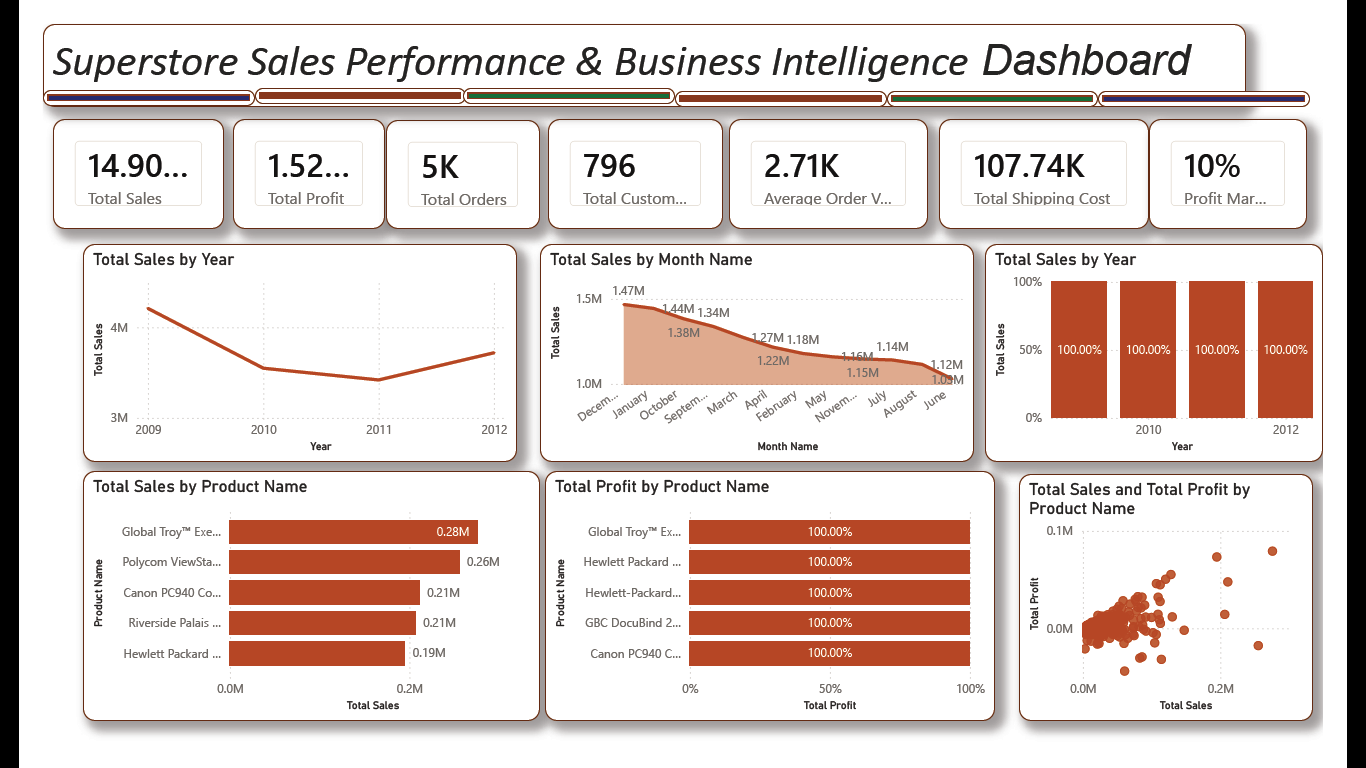

What the dashboard file says about the page in this screenshot:
{"tool":"powerbi","page":{"name":"Page 1","canvas":[1280,720],"ordinal":0},"visuals":[{"type":"cardVisual","fields":{"Data":["Orders.Total Sales"]},"box":[10.1,95.7,166.3,109.2],"z":0},{"type":"cardVisual","fields":{"Data":["Orders.Total Profit"]},"box":[176.4,95.7,152.9,109.2],"z":1000},{"type":"cardVisual","fields":{"Data":["Orders.Total Orders"]},"box":[342.7,95.7,154.5,109.2],"z":2000},{"type":"cardVisual","fields":{"Data":["Orders.Total Customers"]},"box":[497.2,95.7,176.4,109.2],"z":3000},{"type":"cardVisual","fields":{"Data":["Orders.Average Order Value"]},"box":[674.6,95.1,199,109.8],"z":4000},{"type":"cardVisual","fields":{"Data":["Orders.Total Shipping Cost"]},"box":[873.5,95.7,204.9,109.2],"z":5000},{"type":"cardVisual","fields":{"Data":["Orders.Profit Margin"]},"box":[1078.4,95.7,157.9,109.2],"z":6000},{"type":"lineChart","fields":{"Category":["Orders.Order Date.Variation.Date Hierarchy.Year","Orders.Order Date.Variation.Date Hierarchy.Quarter","Orders.Order Date.Variation.Date Hierarchy.Month"],"Y":["Orders.Total Sales"]},"box":[40.3,220.1,433.4,218.4],"z":7000},{"type":"lineChart","fields":{"Category":["Orders.Month Name"],"Y":["Orders.Total Sales"]},"box":[497.2,220.1,433.4,218.4],"z":8000},{"type":"hundredPercentStackedColumnChart","fields":{"Category":["Orders.Order Date.Variation.Date Hierarchy.Year"],"Y":["Orders.Total Sales"]},"box":[942.4,220.1,337.6,218.4],"z":9000},{"type":"barChart","fields":{"Y":["Orders.Total Sales"],"Category":["Orders.Product Name"]},"box":[40.3,446.8,456.9,250.3],"z":10000},{"type":"hundredPercentStackedBarChart","fields":{"Category":["Orders.Product Name"],"Y":["Orders.Total Profit"]},"box":[502.3,446.8,450.2,250.3],"z":11000},{"type":"textbox","box":[0,0,1185.9,65.5],"z":12000},{"type":"shape","box":[0,58.8,211.7,15.1],"z":13000},{"type":"shape","box":[211.7,58.8,211.7,15.1],"z":14000},{"type":"shape","box":[423.3,58.8,211.7,15.1],"z":15000},{"type":"shape","box":[1058.3,58.8,211.7,15.1],"z":16000},{"type":"shape","box":[846.6,58.8,211.7,15.1],"z":17000},{"type":"shape","box":[635,58.8,211.7,15.1],"z":18000},{"type":"scatterChart","fields":{"X":["Orders.Total Sales"],"Y":["Orders.Total Profit"],"Category":["Orders.Product Name"]},"box":[976,450.2,294,246.9],"z":18001}]}

Visuals, with their boxes in screenshot pixels (x1, y1, x2, y2), scaled from the page's 1280x720 canvas onto the 1366x768 screenshot:
cardVisual - Orders.Total Sales: <box>11,102,188,219</box>
cardVisual - Orders.Total Profit: <box>188,102,351,219</box>
cardVisual - Orders.Total Orders: <box>366,102,531,219</box>
cardVisual - Orders.Total Customers: <box>531,102,719,219</box>
cardVisual - Orders.Average Order Value: <box>720,101,932,219</box>
cardVisual - Orders.Total Shipping Cost: <box>932,102,1151,219</box>
cardVisual - Orders.Profit Margin: <box>1151,102,1319,219</box>
lineChart - Orders.Order Date.Variation.Date Hierarchy.Year x Orders.Order Date.Variation.Date Hierarchy.Quarter: <box>43,235,506,468</box>
lineChart - Orders.Month Name x Orders.Total Sales: <box>531,235,993,468</box>
hundredPercentStackedColumnChart - Orders.Order Date.Variation.Date Hierarchy.Year x Orders.Total Sales: <box>1006,235,1365,468</box>
barChart - Orders.Total Sales x Orders.Product Name: <box>43,477,531,744</box>
hundredPercentStackedBarChart - Orders.Product Name x Orders.Total Profit: <box>536,477,1016,744</box>
textbox: <box>0,0,1266,70</box>
shape: <box>0,63,226,79</box>
shape: <box>226,63,452,79</box>
shape: <box>452,63,678,79</box>
shape: <box>1129,63,1355,79</box>
shape: <box>903,63,1129,79</box>
shape: <box>678,63,904,79</box>
scatterChart - Orders.Total Sales x Orders.Total Profit: <box>1042,480,1355,744</box>
